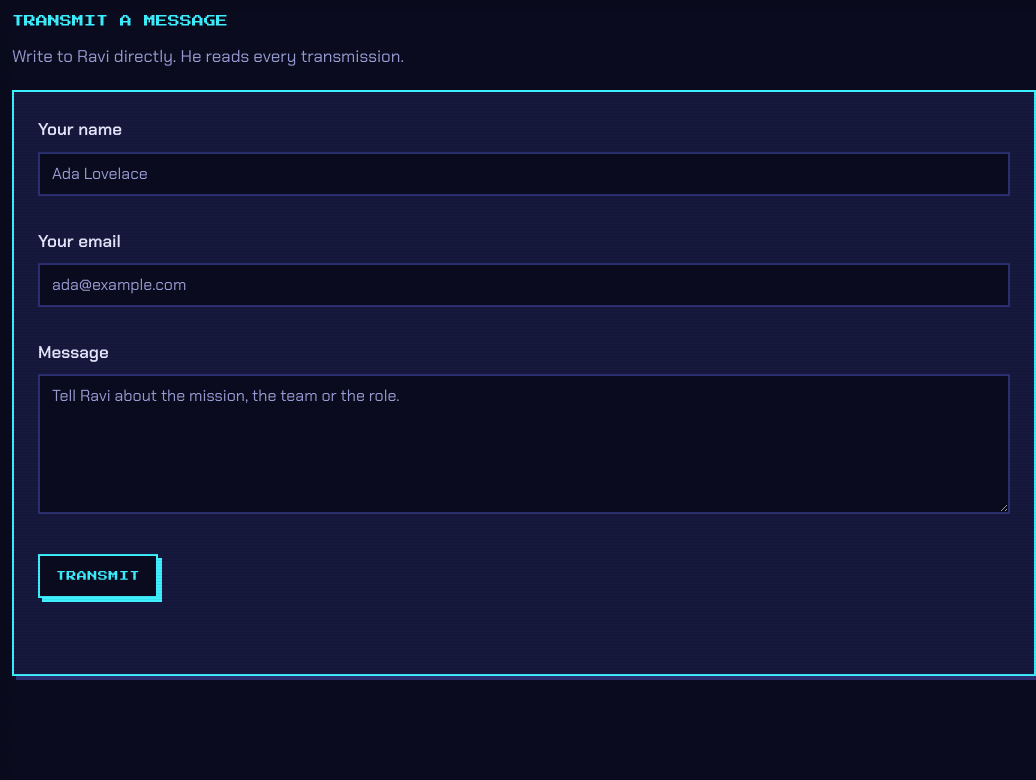
ContactForm (validation) › shows labelled, accessible errors and focuses the first invalid field
What coordinates should you click on to do the following:
click the button "Transmit"
I would click on:
 (98, 576)
Its box is [38,554,158,598].
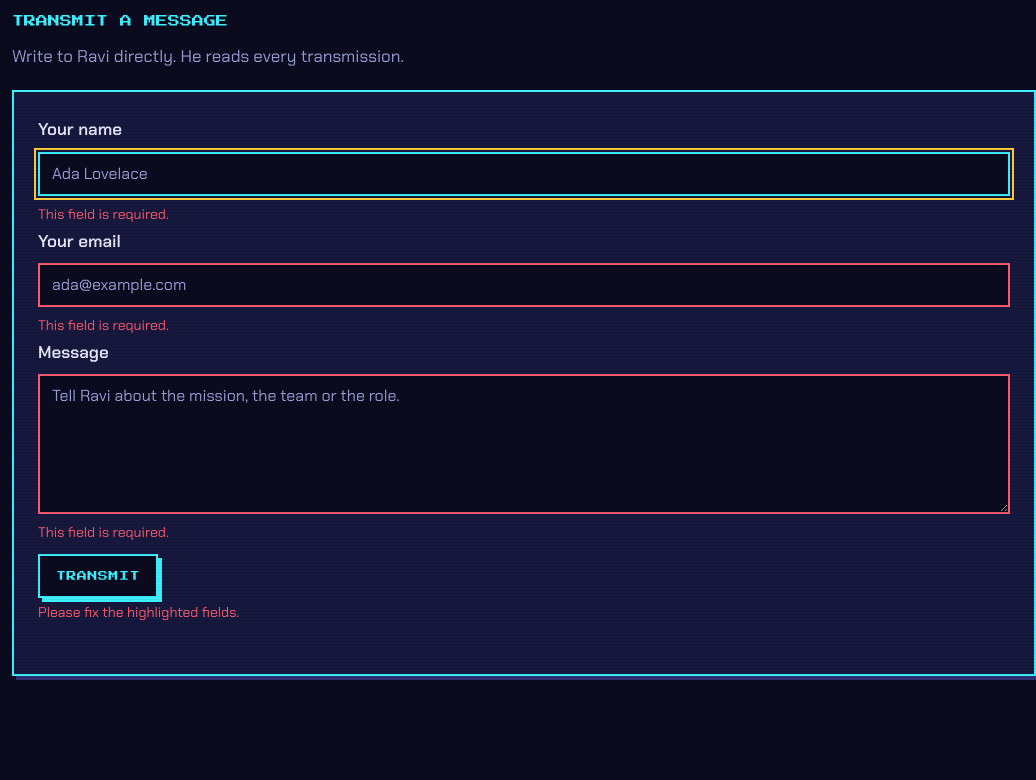
Expected: the text "Please fix the highlighted fields." is shown, [38,603,239,621]
